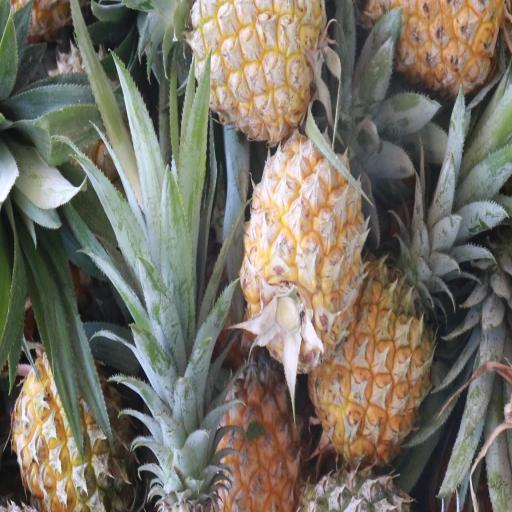------------------------------: (12, 343, 133, 512)
Pineapple - v8 v1: (242, 138, 360, 369), (309, 256, 429, 456), (184, 0, 318, 128), (209, 356, 302, 512)
